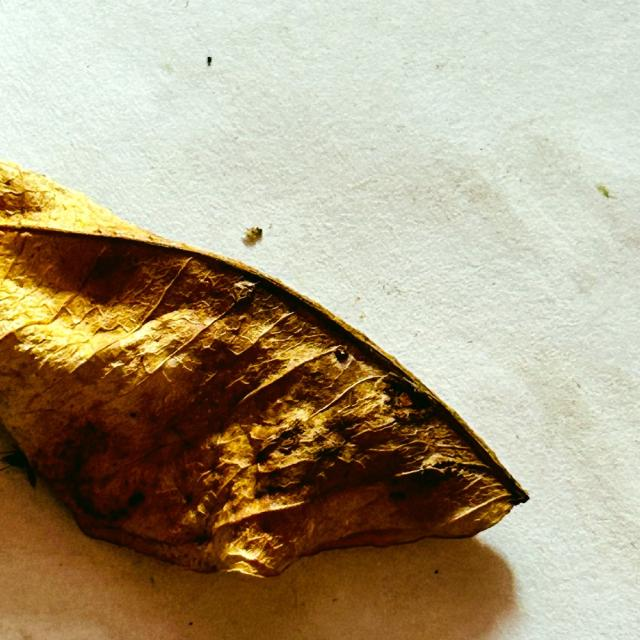DryLeaf_Lemon: (0, 168, 526, 576)
